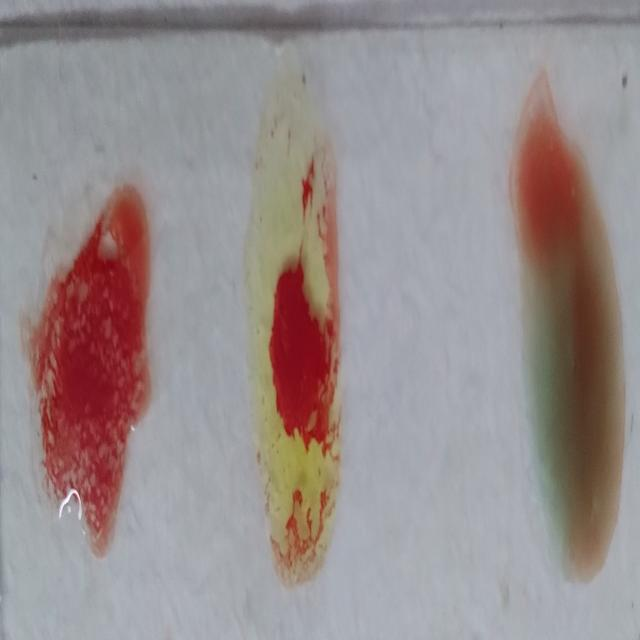B: (243, 70, 341, 612)
D: (25, 187, 145, 568)
